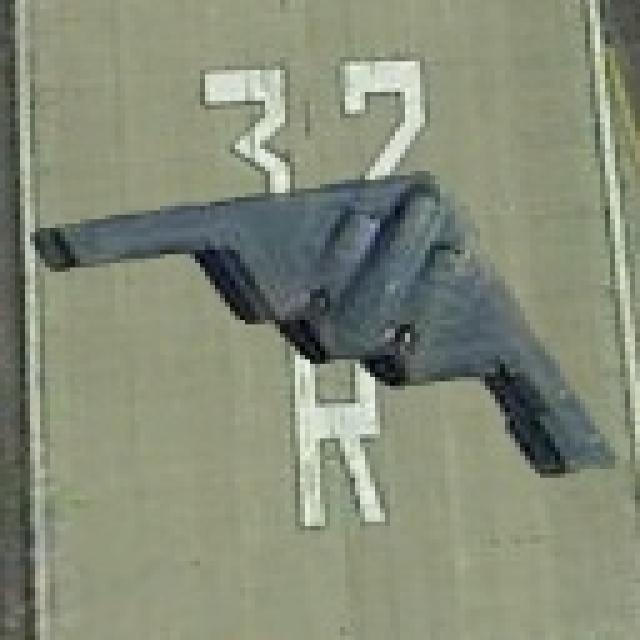B-2_TopDown: (25, 162, 615, 526)
